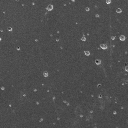corrosion: (98, 42, 110, 51), (45, 3, 54, 12), (118, 33, 127, 42), (83, 49, 91, 57), (94, 58, 102, 66), (115, 6, 122, 15), (80, 35, 87, 42), (42, 72, 49, 78), (84, 6, 90, 13), (51, 95, 58, 101), (95, 83, 102, 89), (63, 99, 69, 106), (109, 35, 116, 41), (7, 26, 13, 32), (112, 110, 118, 116), (95, 13, 101, 19), (37, 118, 44, 123), (105, 1, 113, 5), (124, 64, 128, 72), (98, 93, 103, 99), (35, 100, 40, 106), (16, 45, 21, 51), (22, 92, 27, 98), (78, 113, 84, 118), (55, 38, 61, 43), (33, 88, 38, 93), (8, 103, 13, 108), (34, 37, 39, 42), (1, 87, 5, 91)
